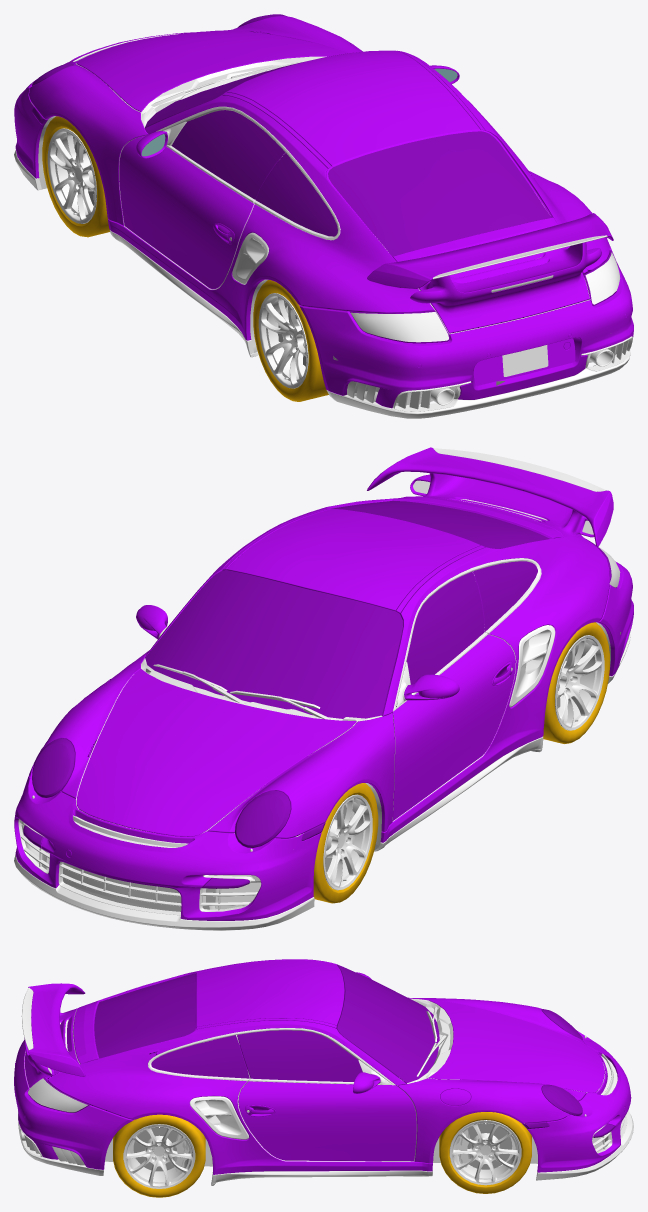
3 views of the same model, one above another, from view 1: azimuth 30°, elevation 25°; view 2: azimuth 150°, elevation 25°; view 3: azimuth 270°, elevation 25° (orthographic). The views are drawn at different scales.
Parts seen in each view (by area): view 1: gt2:Mesh, rim:Mesh, wheel:Mesh; view 2: gt2:Mesh, rim:Mesh, wheel:Mesh; view 3: gt2:Mesh, Mesh1_phongE4_0, Mesh_wheel1_0, Mesh1_phongE5_0, Mesh2_lambert1_0.
Boxes of the visible parts, <box> form: gt2:Mesh: <box>14,14,633,418</box>; rim:Mesh: <box>47,128,308,388</box>; wheel:Mesh: <box>42,116,328,401</box>; gt2:Mesh: <box>14,447,633,930</box>; rim:Mesh: <box>323,635,604,890</box>; wheel:Mesh: <box>313,622,609,903</box>; gt2:Mesh: <box>14,959,633,1185</box>; Mesh1_phongE4_0: <box>123,1120,521,1188</box>; Mesh_wheel1_0: <box>113,1112,531,1197</box>; Mesh1_phongE5_0: <box>133,1124,512,1171</box>; Mesh2_lambert1_0: <box>174,1129,469,1171</box>.
Size of the model in its own units: 1.96 by 1.27 by 4.47.
